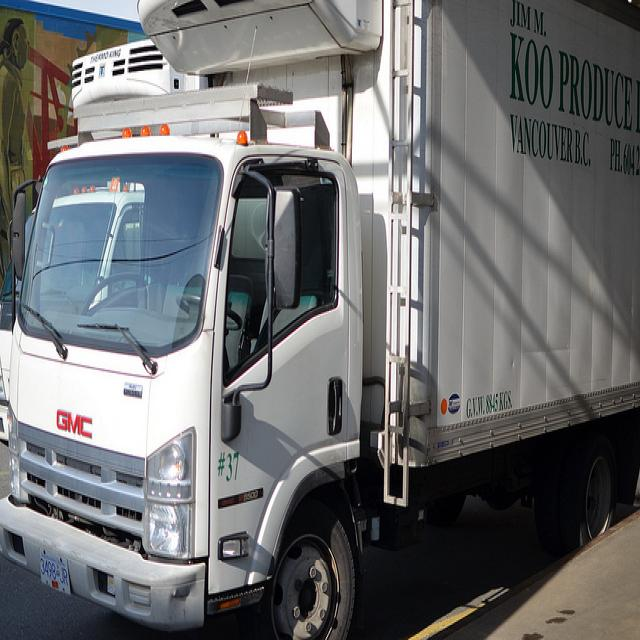Vehicle: (4, 4, 640, 633)
